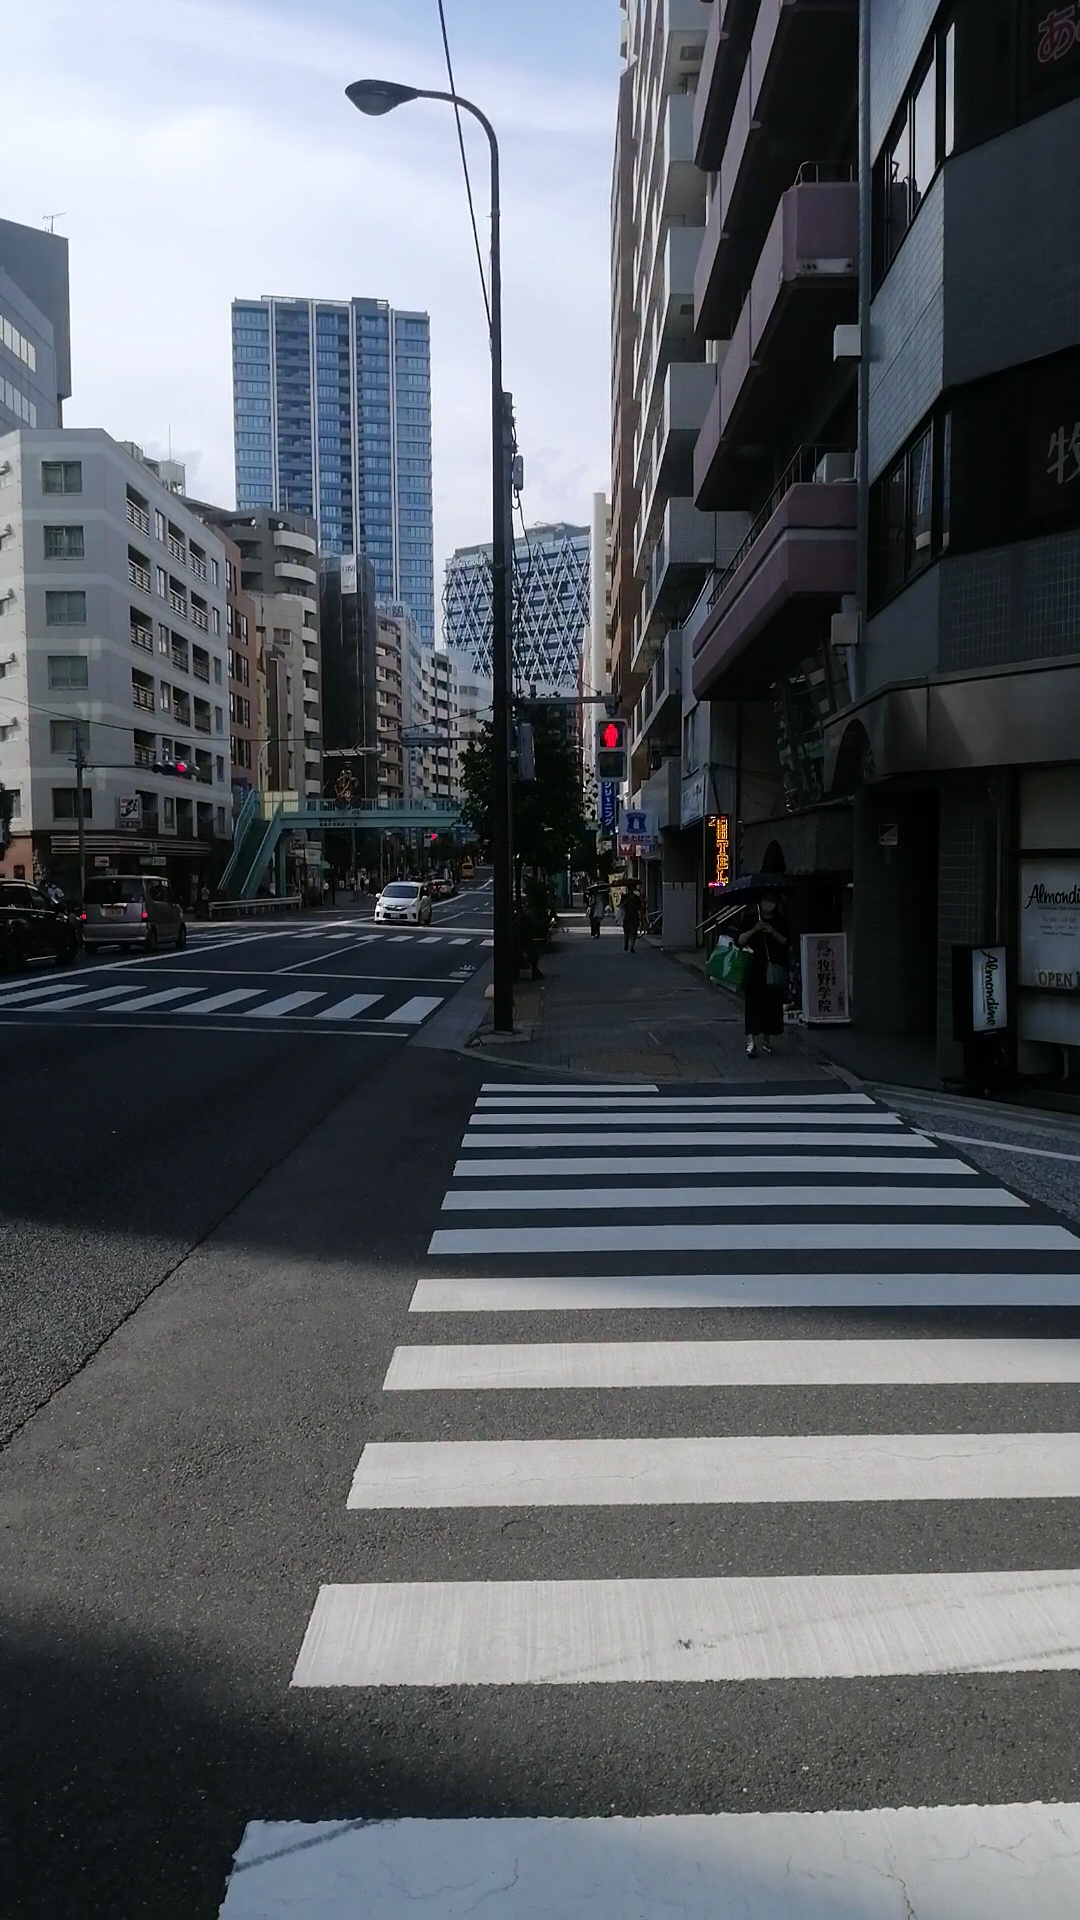red: (593, 717, 628, 782)
